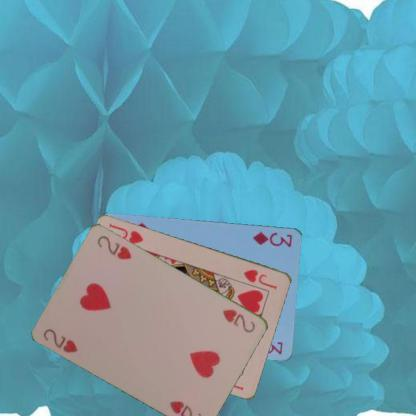2h: (41, 326, 79, 354), (220, 306, 257, 334)
3d: (251, 230, 294, 248)
Jh: (241, 266, 278, 291)
